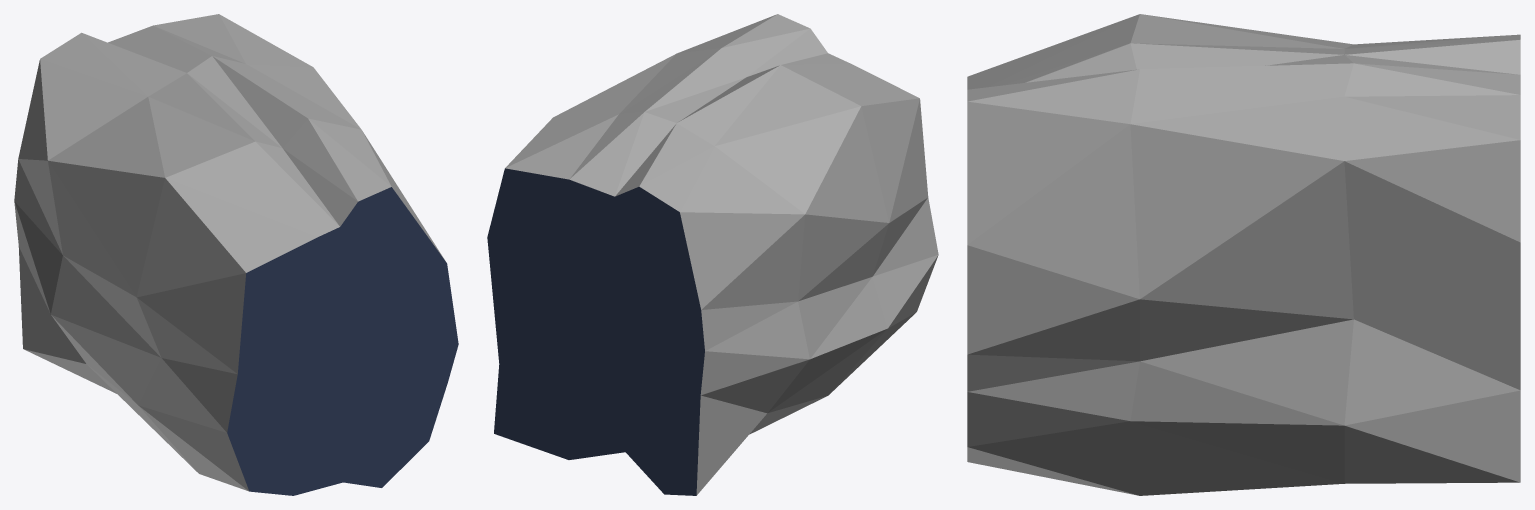
The model's file is Ceiling02.fbx.
3 views of the same model, side by side, from view 1: azimuth 30°, elevation 25°; view 2: azimuth 150°, elevation 25°; view 3: azimuth 270°, elevation 25° (orthographic). The views are drawn at different scales.
Parts seen in each view (by area): view 1: Ceiling02_GEO; view 2: Ceiling02_GEO; view 3: Ceiling02_GEO.
Part boxes in pixels (<box>): Ceiling02_GEO: <box>14,14,458,495</box>; Ceiling02_GEO: <box>487,14,938,495</box>; Ceiling02_GEO: <box>967,14,1520,495</box>.
Size of the model in its own units: 325 by 381 by 464.
